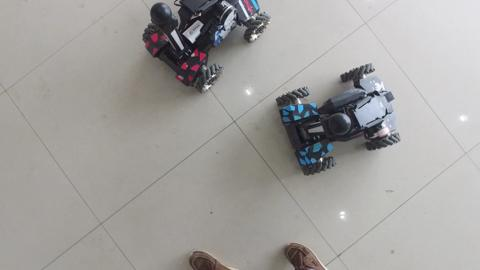chariot: (277, 59, 406, 179), (137, 1, 275, 102)
